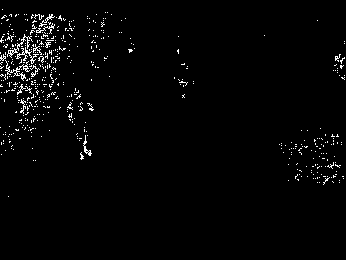person: (67, 87, 96, 162)
